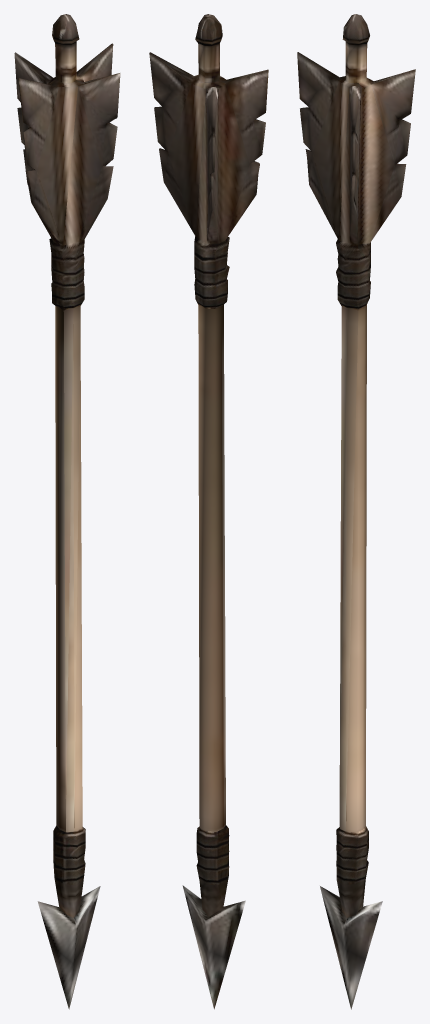
File: SkeletalArrow.glb
3 views of the same model, side by side, from view 1: azimuth 30°, elevation 25°; view 2: azimuth 150°, elevation 25°; view 3: azimuth 330°, elevation 25° (orthographic).
Parts seen in each view (by area): view 1: tripo_node_9c433441-c00b-4542-b4ef-13b5d987d1be; view 2: tripo_node_9c433441-c00b-4542-b4ef-13b5d987d1be; view 3: tripo_node_9c433441-c00b-4542-b4ef-13b5d987d1be.
Boxes of the visible parts, box(x1,y1,x2,y2) form: tripo_node_9c433441-c00b-4542-b4ef-13b5d987d1be: box(14, 14, 120, 1009); tripo_node_9c433441-c00b-4542-b4ef-13b5d987d1be: box(149, 14, 268, 1009); tripo_node_9c433441-c00b-4542-b4ef-13b5d987d1be: box(297, 14, 415, 1009).
Size of the model in its own units: 0.1113 by 0.998 by 0.0957.
1 material, 1 textured.
